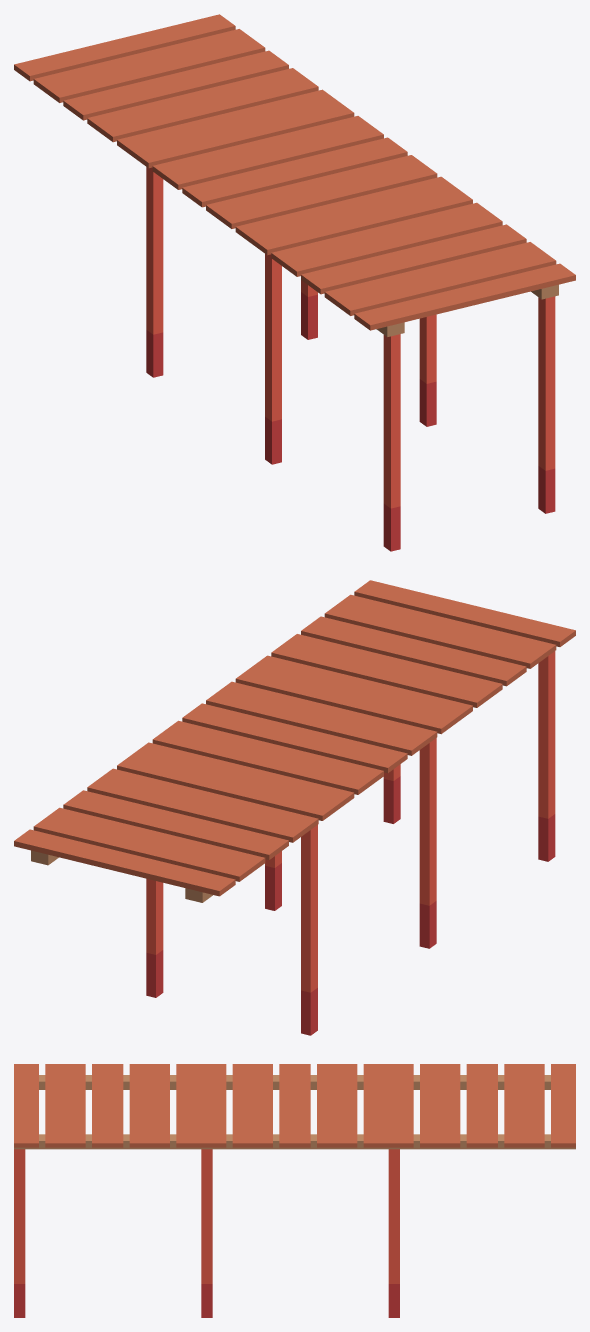
File: Pier.obj
The picture shows the model from 3 angles, top to bottom: view 1: azimuth 30°, elevation 25°; view 2: azimuth 150°, elevation 25°; view 3: azimuth 270°, elevation 25°; orthographic projection. The views are drawn at different scales.
Parts seen in each view (by area): view 1: platform_wood, columns_small; view 2: platform_wood, columns_small; view 3: platform_wood, columns_small.
Boxes of the visible parts, x1,y1,x2,y2 form: platform_wood: (14, 14, 575, 336); columns_small: (146, 167, 555, 551); platform_wood: (14, 580, 575, 902); columns_small: (146, 651, 555, 1035); platform_wood: (14, 1064, 575, 1149); columns_small: (14, 1149, 399, 1317).
Bounding box in the file's own units: 1 × 1.08 × 3.
